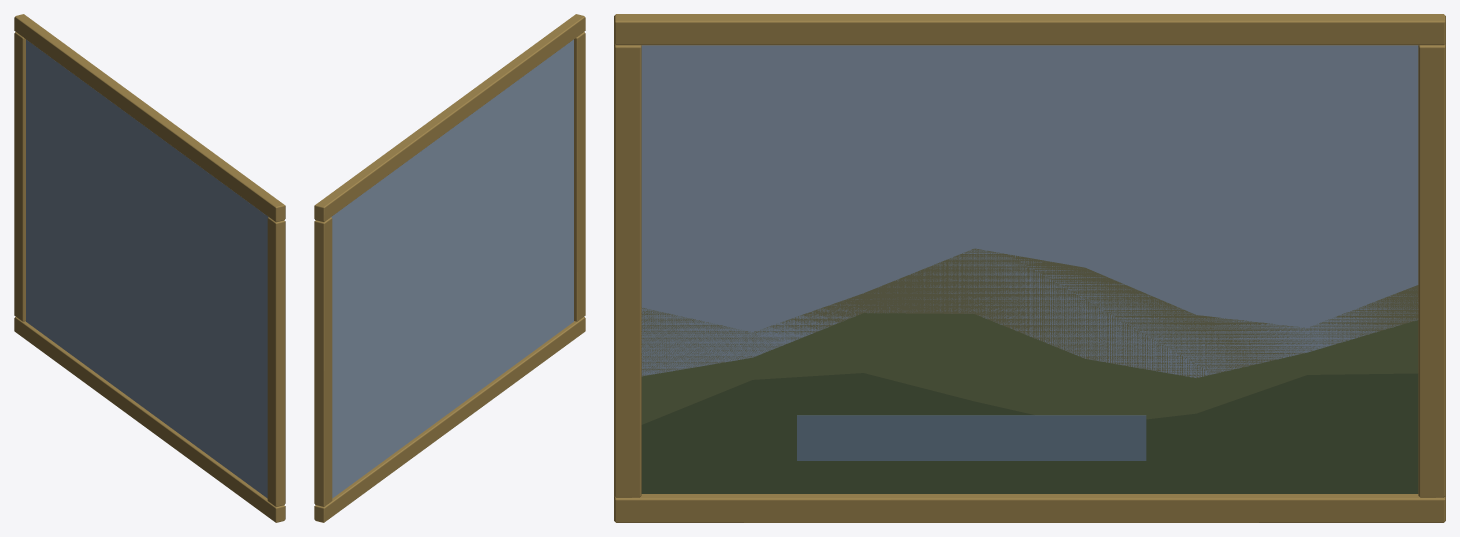
The model's file is painting_e.glb.
The picture shows the model from 3 angles, left to right: view 1: azimuth 30°, elevation 25°; view 2: azimuth 150°, elevation 25°; view 3: azimuth 270°, elevation 25°; orthographic projection. The views are drawn at different scales.
Visible parts, largest first — view 1: himmel, rahmen_o, rahmen_r, rahmen_u, rahmen_l; view 2: himmel, rahmen_o, rahmen_l, rahmen_u, rahmen_r; view 3: himmel, huegel2, huegel1, huegel0, rahmen_o, rahmen_u, see, rahmen_l, rahmen_r.
Part boxes in pixels (x1,y1,x2,y2): himmel: (26, 39, 268, 498); rahmen_o: (14, 14, 285, 222); rahmen_r: (267, 217, 285, 506); rahmen_u: (14, 316, 285, 522); rahmen_l: (14, 32, 25, 321); himmel: (331, 39, 573, 498); rahmen_o: (314, 14, 585, 222); rahmen_l: (314, 217, 332, 506); rahmen_u: (314, 316, 585, 522); rahmen_r: (574, 32, 585, 321); himmel: (641, 45, 1418, 377); huegel2: (641, 373, 1418, 493); huegel1: (641, 313, 1418, 424); huegel0: (641, 248, 1418, 377); rahmen_o: (614, 14, 1445, 45); rahmen_u: (614, 494, 1445, 522); see: (797, 415, 1146, 460); rahmen_l: (1418, 44, 1445, 497); rahmen_r: (614, 44, 641, 497).
Bounding box in the file's own units: 0.035 × 1 × 1.5.
